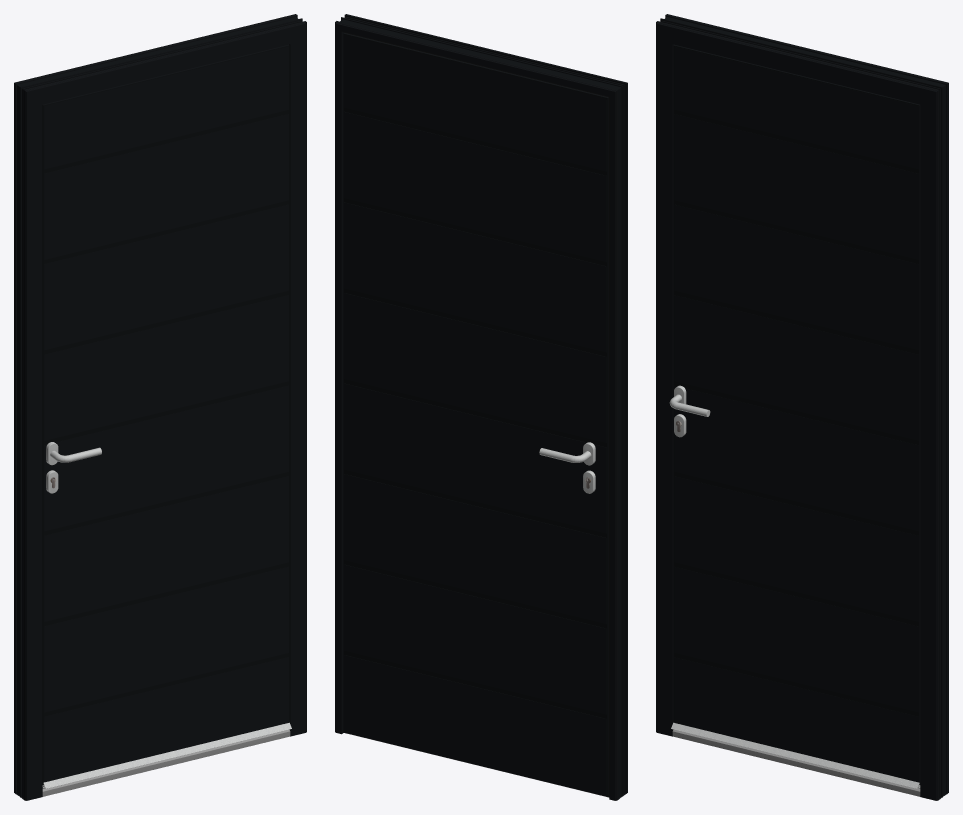
3 renders of one model, left to right at view 1: azimuth 30°, elevation 25°; view 2: azimuth 150°, elevation 25°; view 3: azimuth 330°, elevation 25°, orthographic.
Visible parts, largest first — view 1: bloco_20, aroFixo, monobloco, aroMovel, rodapé, escovas, puxador001; view 2: bloco_20, aroFixo, monobloco, aroMovel, puxador; view 3: bloco_20, aroFixo, monobloco, aroMovel, rodapé, escovas, puxador001.
Part boxes in pixels (box(x1,y1,x2,y2)): bloco_20: box(44, 46, 288, 782); aroFixo: box(14, 14, 306, 800); monobloco: box(44, 46, 288, 781); aroMovel: box(42, 44, 289, 784); rodapé: box(42, 729, 290, 796); escovas: box(42, 722, 291, 788); puxador001: box(46, 442, 101, 493); bloco_20: box(343, 34, 606, 796); aroFixo: box(335, 14, 627, 800); monobloco: box(344, 34, 607, 796); aroMovel: box(343, 32, 609, 796); puxador: box(539, 442, 595, 493); bloco_20: box(674, 46, 918, 782); aroFixo: box(656, 14, 948, 800); monobloco: box(674, 46, 918, 722); aroMovel: box(673, 44, 920, 784); rodapé: box(672, 729, 920, 796); escovas: box(671, 722, 920, 788); puxador001: box(669, 385, 710, 437).
Size of the model in its own units: 900 by 2165 by 209.
Materials: 7 (2 with a texture image).
